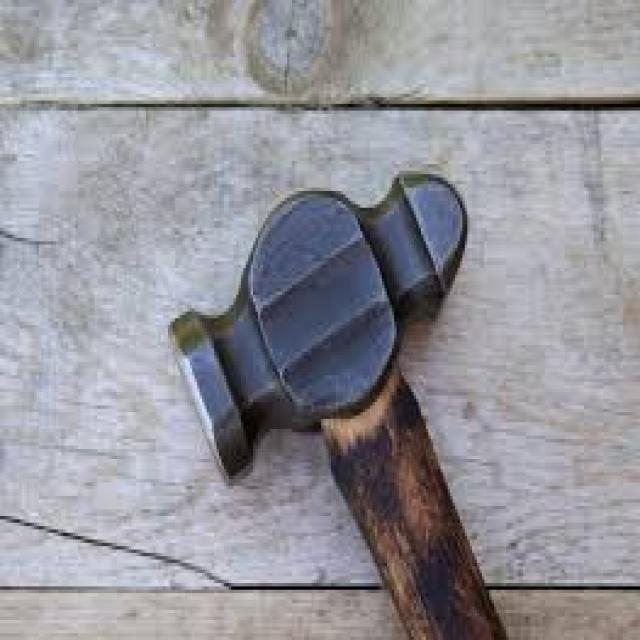hammer: (166, 164, 514, 640)
